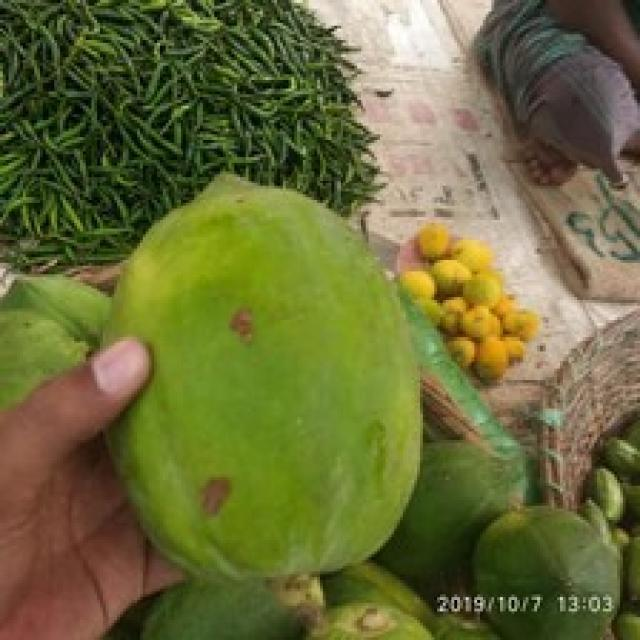Pepaya unrippen: (95, 161, 419, 596)
